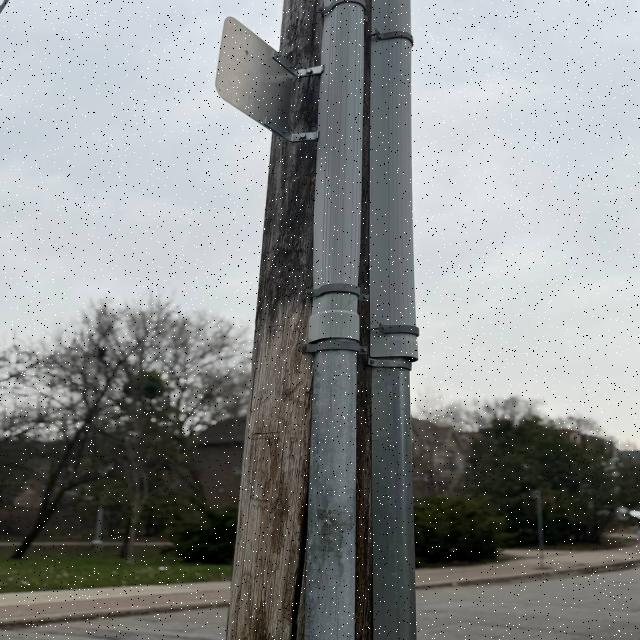Electrical Pole: (204, 1, 434, 638)
